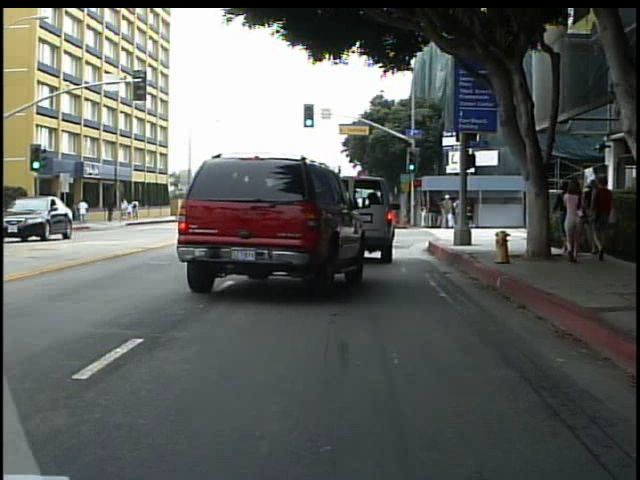person: (587, 176, 618, 268), (556, 179, 587, 270), (439, 190, 455, 233), (76, 197, 92, 226)
